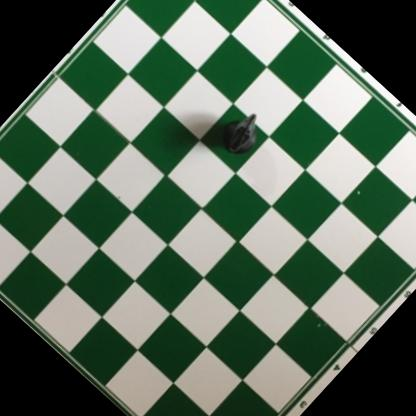black-knight: (212, 104, 272, 164)
